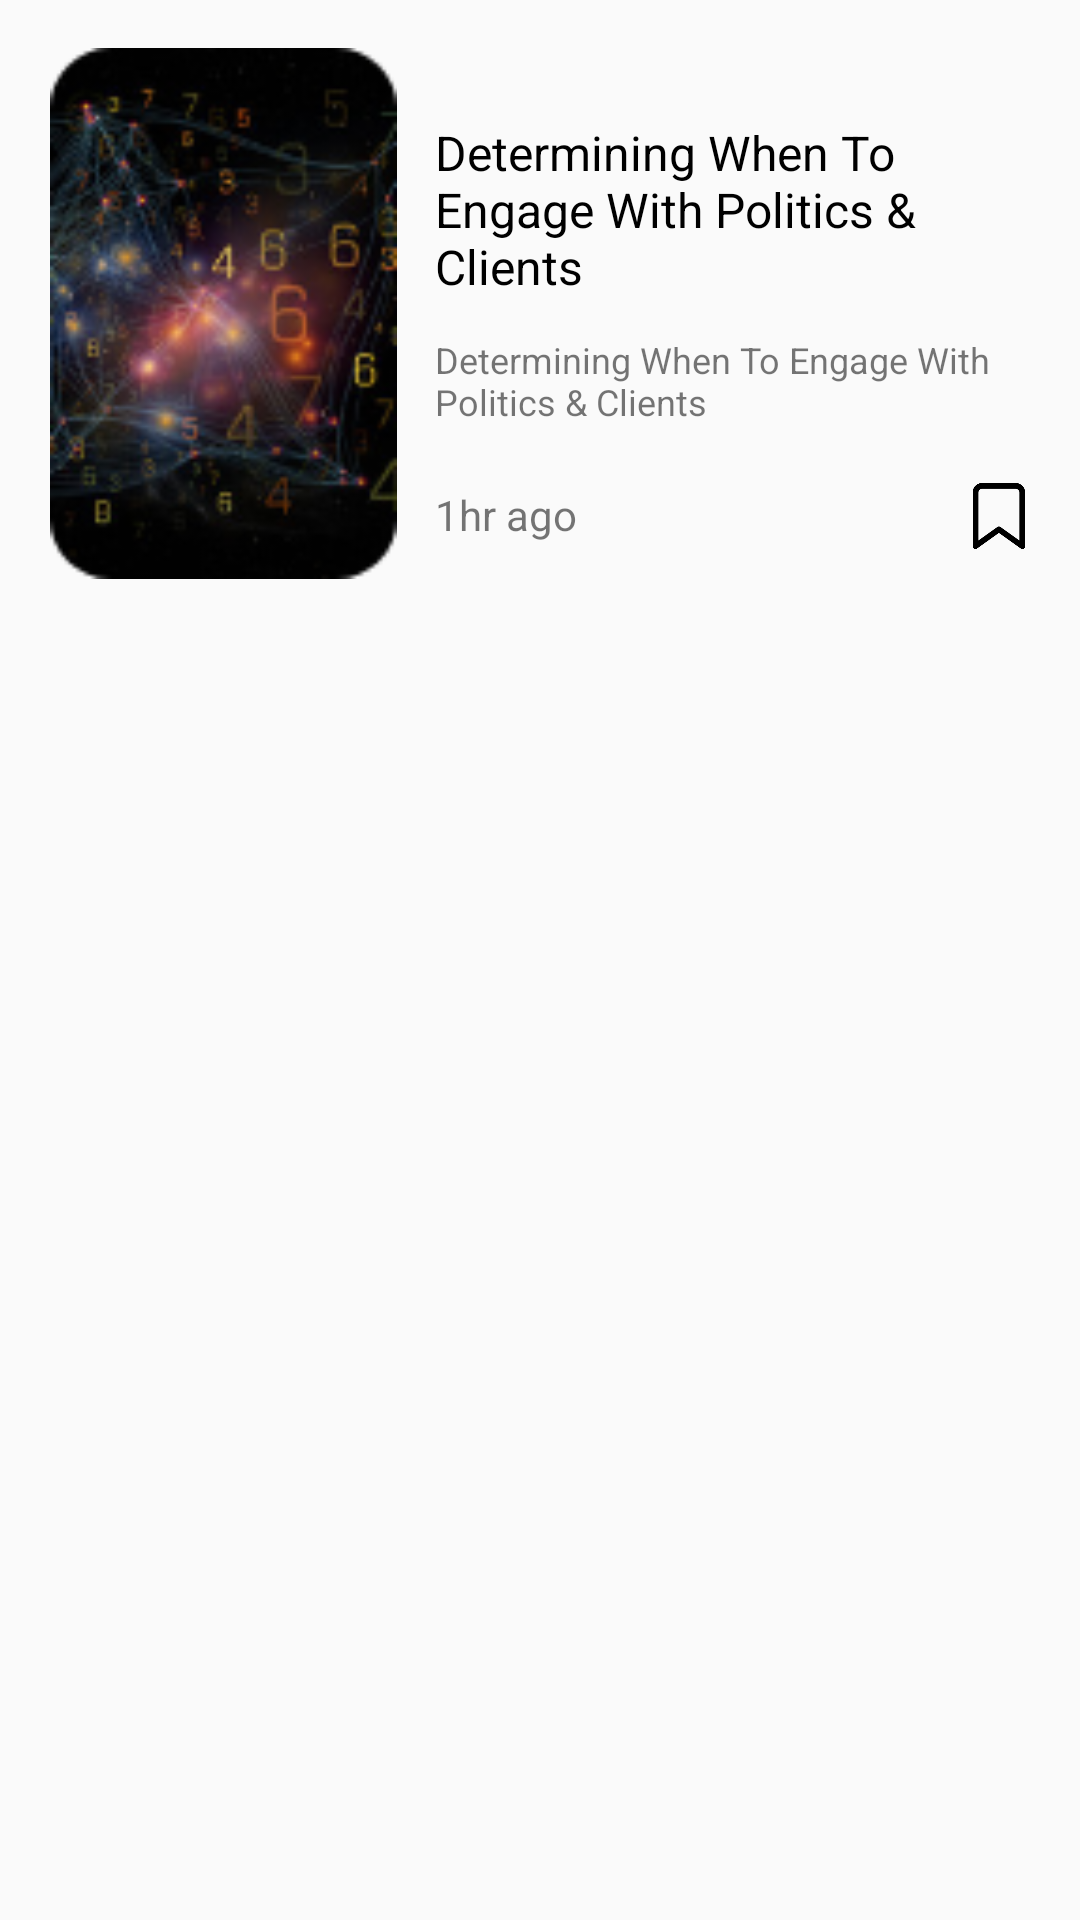

Icon click points for this 1080 x 1920 phone screenshot, format (x,y):
bookmark: (999,516)
